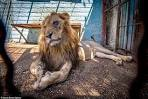lion: (27, 16, 133, 93)
